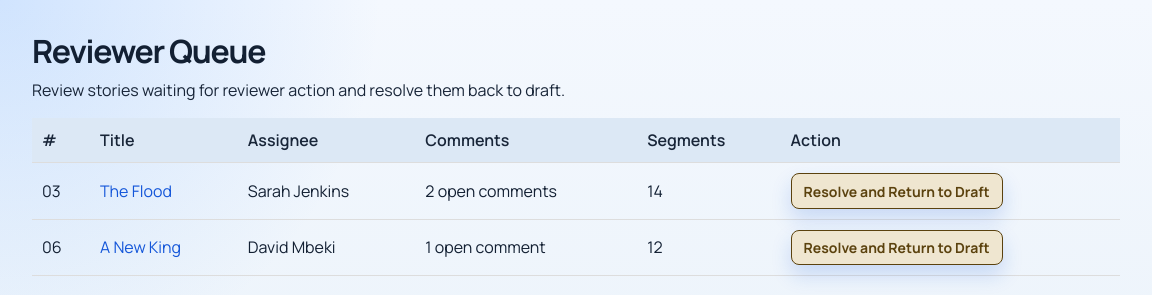
ReviewerQueue › removes a story from the queue when reviewer resolves it
The image size is (1152, 295).
Click the button with aria-label "Resolve for 03".
click(897, 191)  # box [791,173,1003,209]
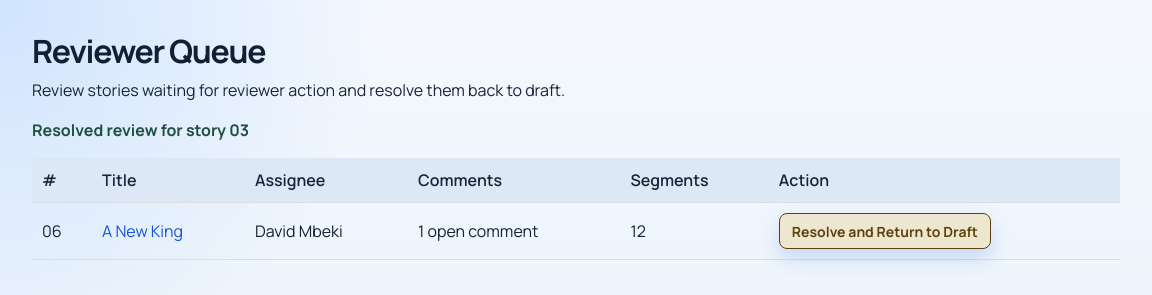
Expected: the link "A New King" is shown, [102,220,183,242]
Result: the text "Resolved review for story 03" is shown at [32,119,249,141]
